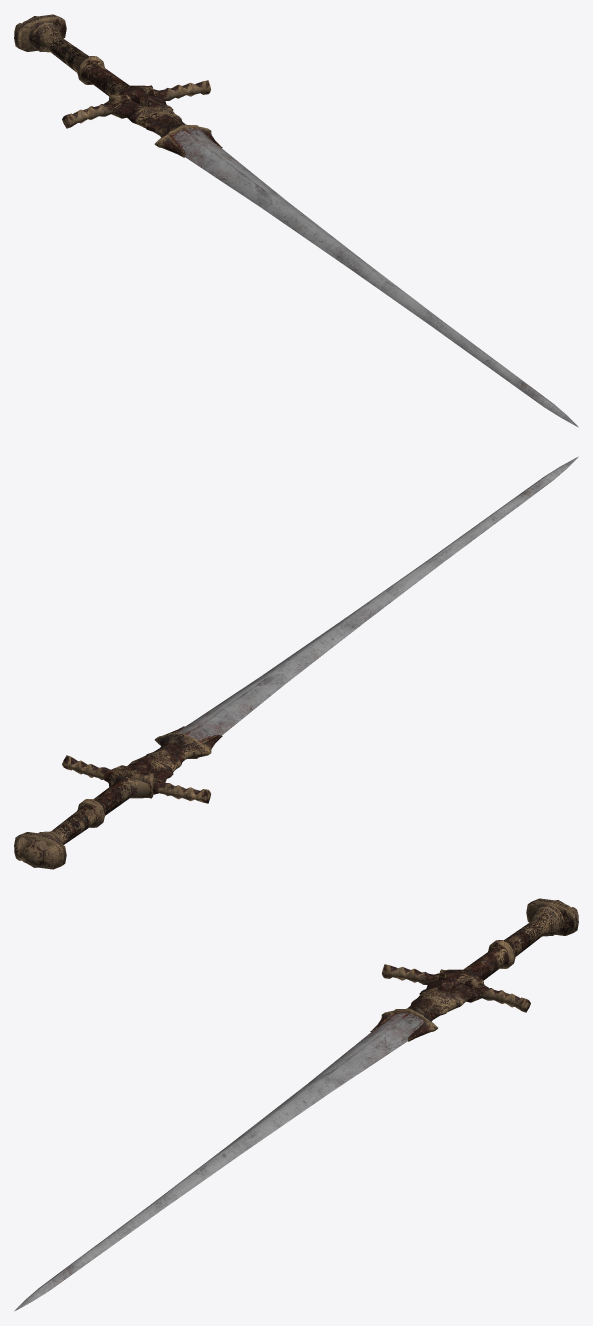
3 renders of one model, top to bottom at view 1: azimuth 30°, elevation 25°; view 2: azimuth 150°, elevation 25°; view 3: azimuth 330°, elevation 25°, orthographic.
Parts seen in each view (by area): view 1: WP_A_0209; view 2: WP_A_0209; view 3: WP_A_0209.
Part boxes in pixels (x1=…): WP_A_0209: x1=14, y1=14, x2=578, y2=427; WP_A_0209: x1=14, y1=456, x2=578, y2=869; WP_A_0209: x1=14, y1=898, x2=578, y2=1311.
Bounding box in the file's own units: 21.28 × 4.44 × 141.
1 material, 1 textured.
